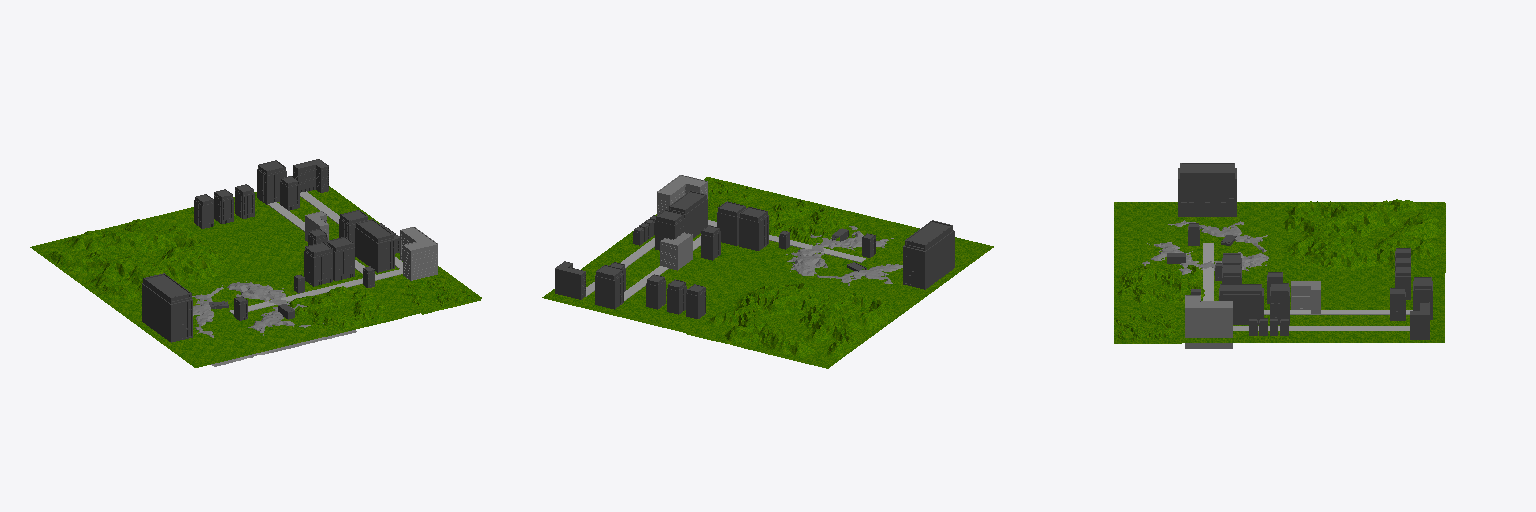
The picture shows the model from 3 angles: view 1: azimuth 30°, elevation 25°; view 2: azimuth 150°, elevation 25°; view 3: azimuth 270°, elevation 25°; orthographic projection.
Visible parts, largest first — view 1: Plane001, WS_free_terrain_001, Building11.006, Building10, Building11.003, WS_free_terrain_001.002, WS_free_terrain_001.001_WS_free_terrain_001.002, Building11.005, WS_free_terrain_001.001, Cube.001, Building11.012, Building11.013_Building11.021 (+2 smaller); view 2: Plane001, WS_free_terrain_001, Building11.006, Building10, Building11.003, WS_free_terrain_001.002, WS_free_terrain_001.001_WS_free_terrain_001.002, Building11.005, Building11.002, Building11.011, Building11.013_Building11.021, Building11.012 (+1 smaller); view 3: Plane001, WS_free_terrain_001, Building10, Building11.003, WS_free_terrain_001.002, Building11.006, WS_free_terrain_001.001_WS_free_terrain_001.002, Building11.005, WS_free_terrain_001.001, Cube.002, Cube.001.
Part boxes in pixels (x1,y1,x2,y2): Plane001: (30, 186, 481, 367); WS_free_terrain_001: (38, 219, 237, 301); Building11.006: (234, 160, 374, 320); Building10: (293, 159, 437, 280); Building11.003: (142, 273, 192, 342); WS_free_terrain_001.002: (288, 286, 401, 336); WS_free_terrain_001.001_WS_free_terrain_001.002: (192, 281, 356, 366); Building11.005: (355, 219, 394, 272); WS_free_terrain_001.001: (402, 279, 480, 314); Cube.001: (229, 269, 402, 314); Building11.012: (214, 189, 233, 223); Building11.013_Building11.021: (235, 184, 254, 218); Plane001: (542, 177, 993, 367); WS_free_terrain_001: (686, 282, 903, 368); Building11.006: (595, 201, 875, 309); Building10: (555, 175, 707, 299); Building11.003: (903, 220, 954, 289); WS_free_terrain_001.002: (768, 200, 848, 244); WS_free_terrain_001.001_WS_free_terrain_001.002: (786, 226, 902, 285); Building11.005: (669, 191, 707, 237); Building11.002: (701, 225, 720, 260); Building11.011: (686, 284, 705, 318); Building11.013_Building11.021: (646, 274, 665, 309); Building11.012: (667, 279, 686, 314); Plane001: (1114, 202, 1444, 342); WS_free_terrain_001: (1281, 199, 1445, 272); Building10: (1185, 281, 1429, 348); Building11.003: (1178, 163, 1236, 216); WS_free_terrain_001.002: (1117, 264, 1204, 303); Building11.006: (1188, 223, 1432, 324); WS_free_terrain_001.001_WS_free_terrain_001.002: (1142, 220, 1268, 274); Building11.005: (1219, 284, 1263, 324); WS_free_terrain_001.001: (1114, 314, 1181, 343); Cube.002: (1233, 326, 1409, 330); Cube.001: (1203, 243, 1213, 300).
Bounding box in the file's own units: 15.95 × 2.88 × 16.
Materials: 36 (2 with a texture image).